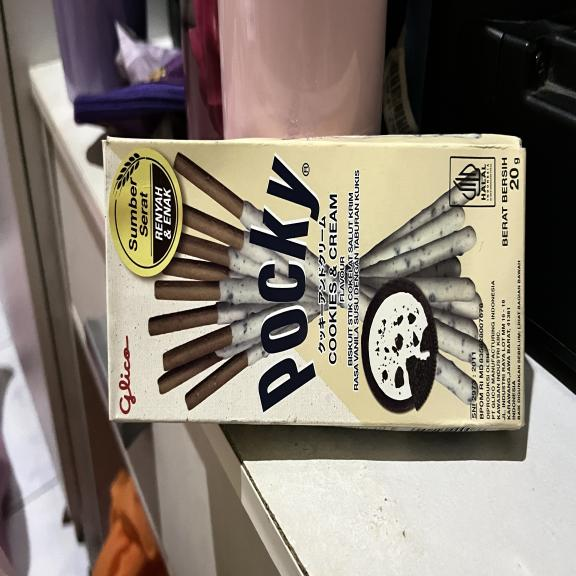Kertas: (104, 137, 526, 425)
